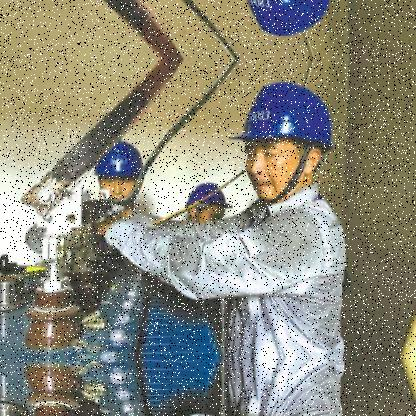Helmet: (225, 75, 343, 216), (242, 0, 342, 48), (92, 140, 152, 216), (182, 181, 237, 238)
